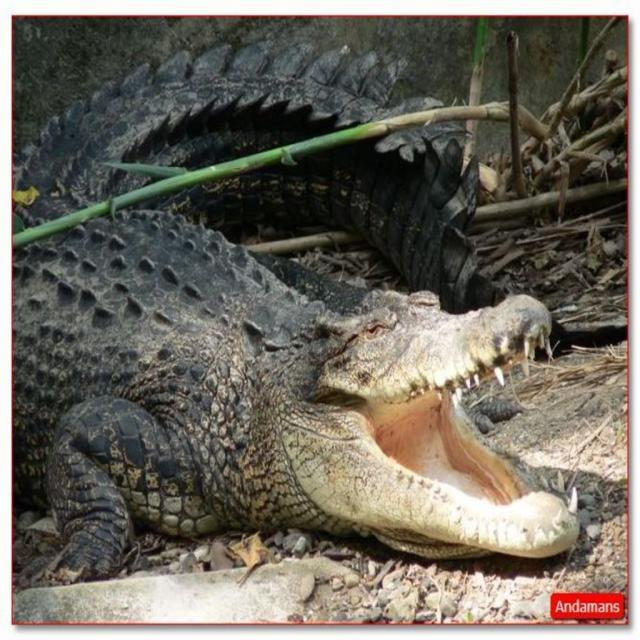crocodile: (9, 34, 587, 584)
